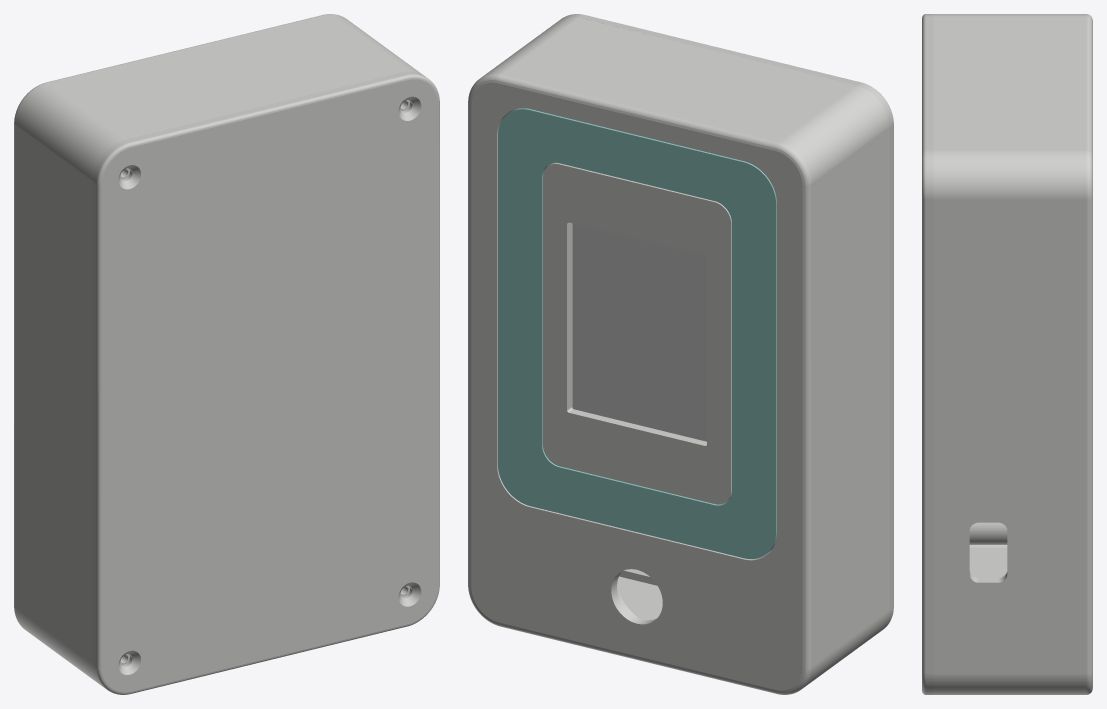
Rendered from Sammenstilling_for_visning.glb.
3 views of the same model, side by side, from view 1: azimuth 30°, elevation 25°; view 2: azimuth 150°, elevation 25°; view 3: azimuth 270°, elevation 25° (orthographic).
Parts seen in each view (by area): view 1: baklokk, hus; view 2: hus, diffusor, baklokk; view 3: hus, baklokk.
Boxes of the visible parts, x1,y1,x2,y2 form: baklokk: (92, 71, 439, 694); hus: (14, 14, 422, 684); hus: (468, 17, 889, 694); diffusor: (498, 108, 776, 558); baklokk: (560, 14, 893, 630); hus: (933, 14, 1092, 694); baklokk: (922, 14, 933, 694).
Bounding box in the file's own units: 82 × 126 × 36.
